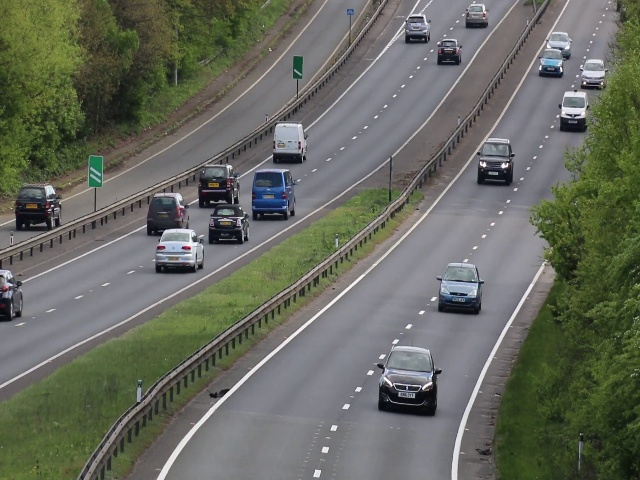car: (380, 348, 438, 413), (16, 183, 64, 231), (251, 169, 296, 219), (156, 229, 206, 274), (437, 264, 482, 311), (198, 161, 241, 206), (146, 192, 193, 233), (476, 140, 513, 186), (208, 206, 250, 243), (560, 90, 590, 133), (275, 124, 308, 163), (1, 269, 24, 321), (581, 57, 607, 90), (404, 15, 431, 42), (437, 38, 462, 66), (539, 51, 564, 76), (465, 5, 488, 28), (548, 30, 570, 51)
